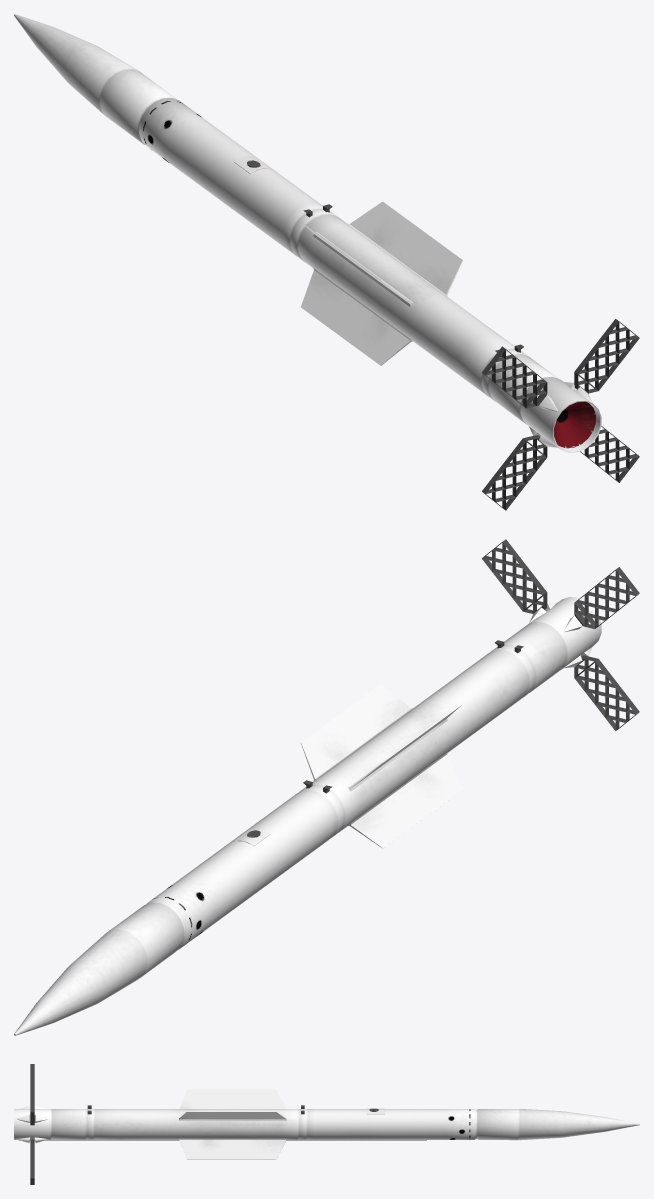
Rendered from missile.glb.
The picture shows the model from 3 angles, top to bottom: view 1: azimuth 30°, elevation 25°; view 2: azimuth 150°, elevation 25°; view 3: azimuth 270°, elevation 25°; orthographic projection. The views are drawn at different scales.
Parts seen in each view (by area): view 1: R-77; view 2: R-77; view 3: R-77.
Part boxes in pixels (x1,y1,x2,y2): R-77: [14, 14, 639, 510]; R-77: [14, 539, 639, 1035]; R-77: [14, 1064, 639, 1184].
Bounding box in the file's own units: 0.5711 × 0.5711 × 3.6.
1 material, 1 textured.
